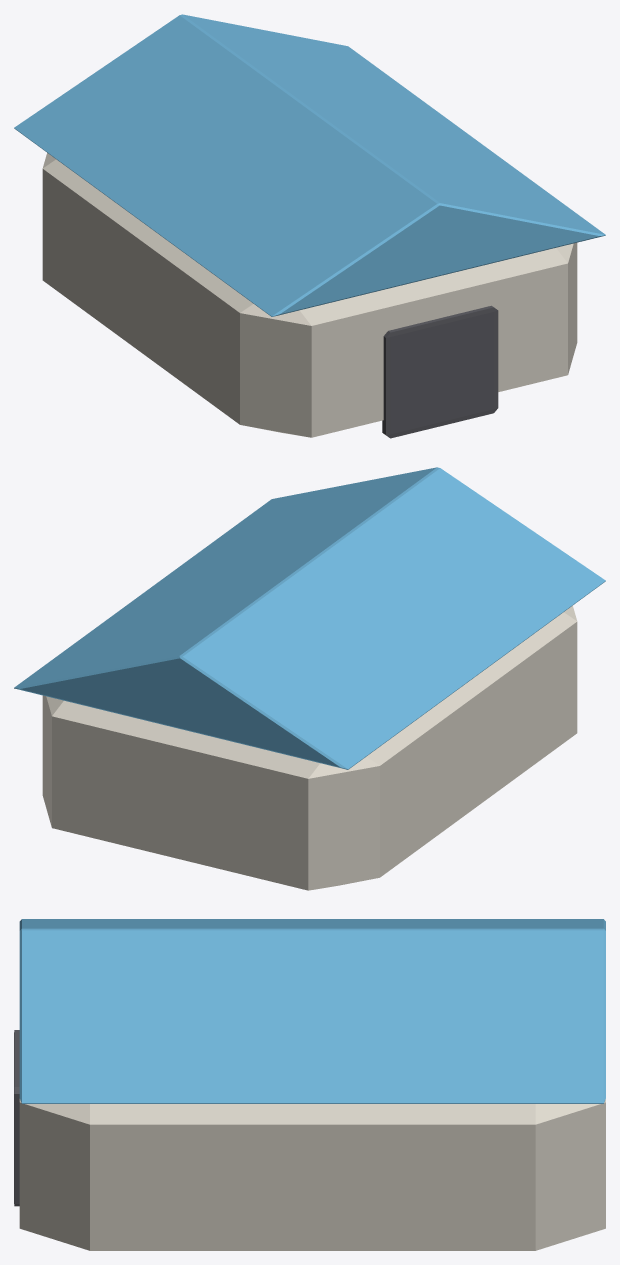
File: boathouse.glb
3 renders of one model, top to bottom at view 1: azimuth 30°, elevation 25°; view 2: azimuth 150°, elevation 25°; view 3: azimuth 270°, elevation 25°, orthographic. The views are drawn at different scales.
Visible parts, largest first — view 1: roof, walls, boatdoor; view 2: roof, walls; view 3: roof, walls, boatdoor.
Boxes of the visible parts, x1,y1,x2,y2 form: roof: (14,14,605,316); walls: (42,153,577,437); boatdoor: (382,305,498,438); roof: (14,467,605,769); walls: (42,605,577,890); roof: (19,919,605,1103); walls: (19,1099,605,1250); boatdoor: (14,1030,19,1206).
Bounding box in the file's own units: 12 × 7.48 × 16.15.
